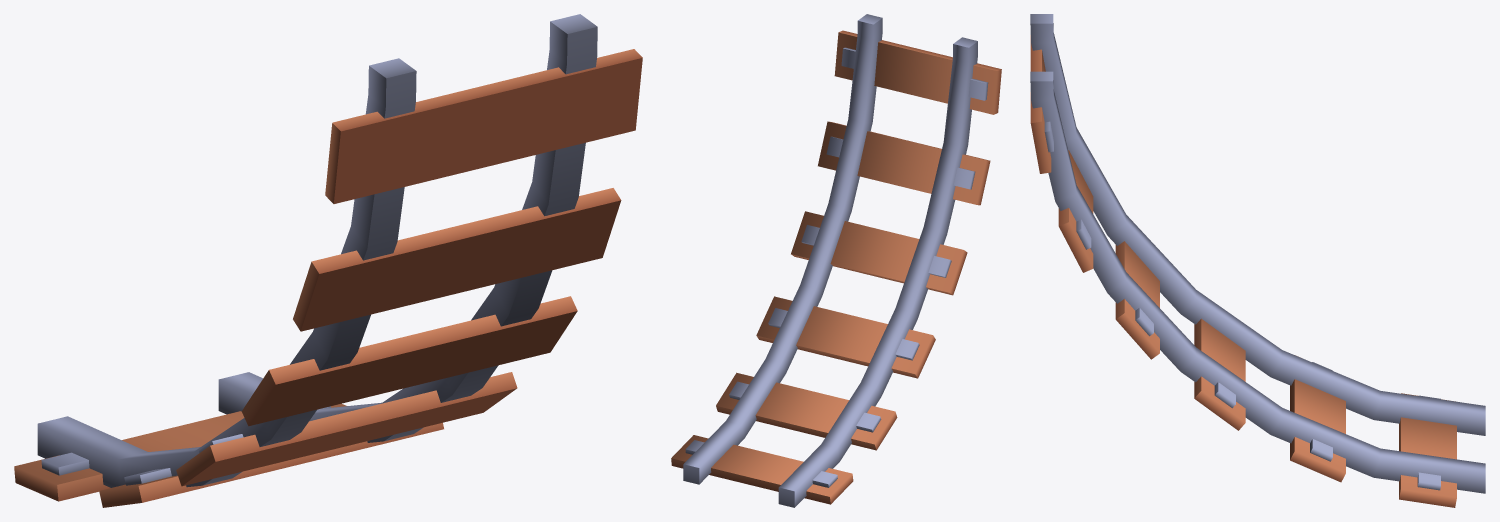
Rendered from railroad-straight-bend.glb.
3 renders of one model, left to right at view 1: azimuth 30°, elevation 25°; view 2: azimuth 150°, elevation 25°; view 3: azimuth 270°, elevation 25°, orthographic. The views are drawn at different scales.
Visible parts, largest first — view 1: railroad-straight-bend; view 2: railroad-straight-bend; view 3: railroad-straight-bend.
Boxes of the visible parts, <box> form: railroad-straight-bend: <box>14,14,642,507</box>; railroad-straight-bend: <box>671,14,1001,507</box>; railroad-straight-bend: <box>1030,14,1485,507</box>.
Size of the model in its own units: 1 by 2 by 2.
